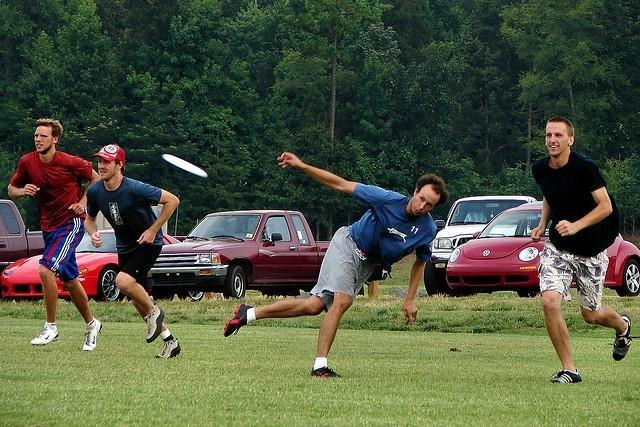car: (446, 206, 640, 299), (0, 228, 182, 302), (423, 196, 538, 296)
truck: (146, 210, 364, 302), (423, 195, 538, 296), (0, 199, 45, 272)
